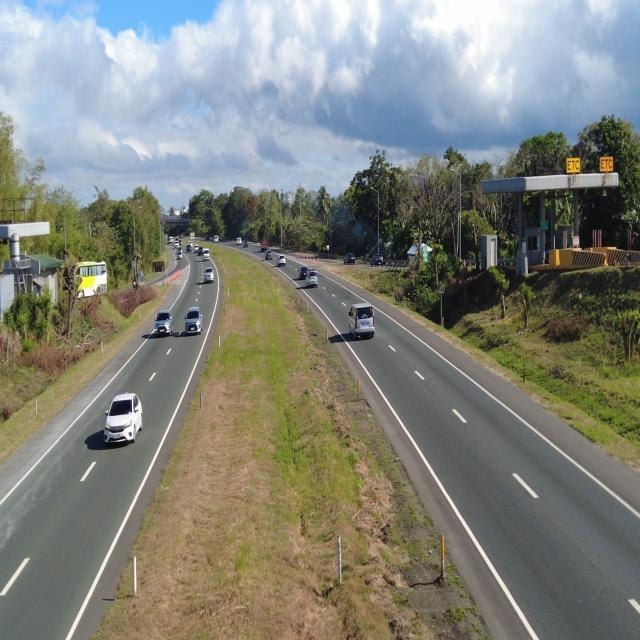Bus: (54, 255, 111, 300)
Van: (339, 299, 388, 342)
